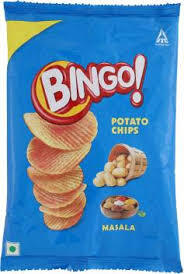VEG: (5, 241, 21, 257)
